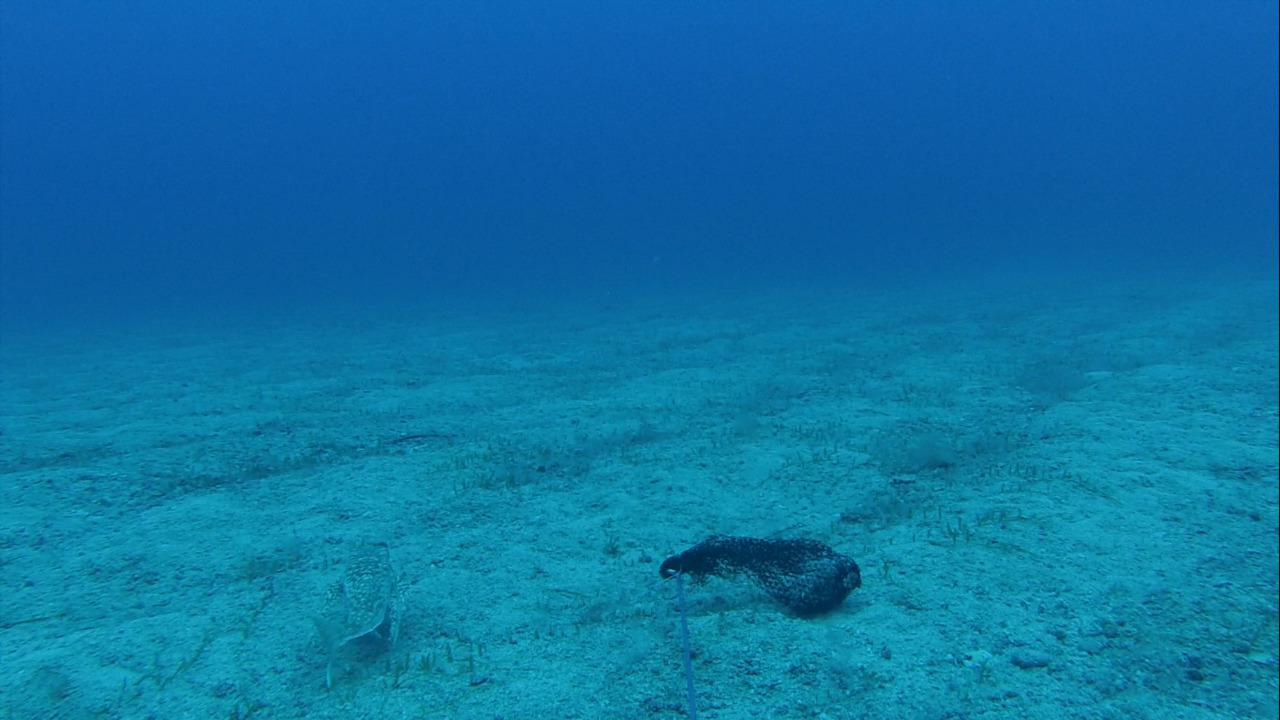dactylopterus: (296, 521, 411, 687)
